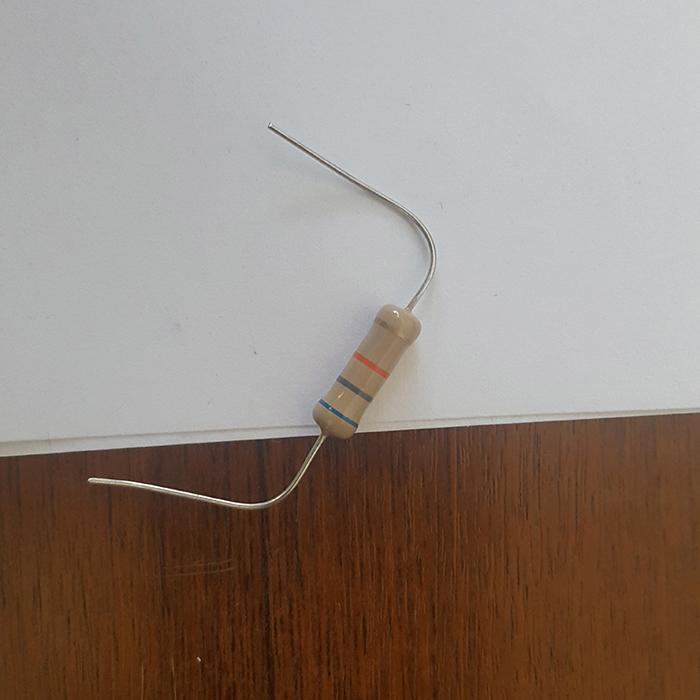resistor: (313, 302, 422, 438)
